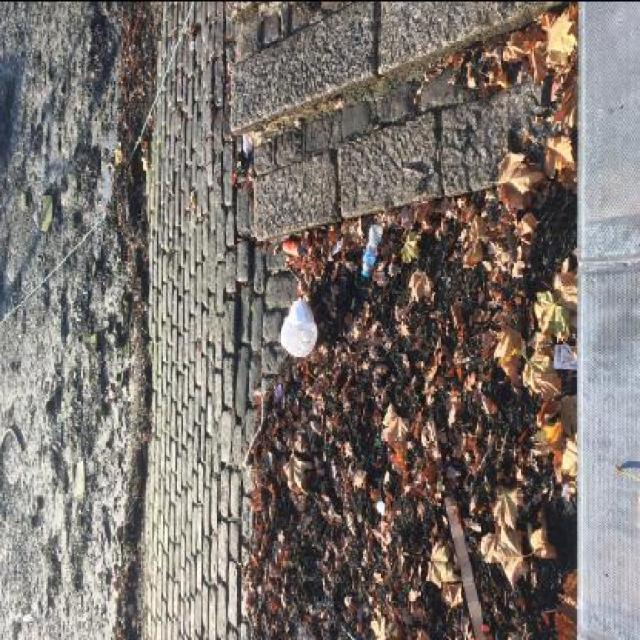cardboard: (362, 223, 383, 275)
plastic: (278, 298, 318, 356), (282, 236, 306, 256)
